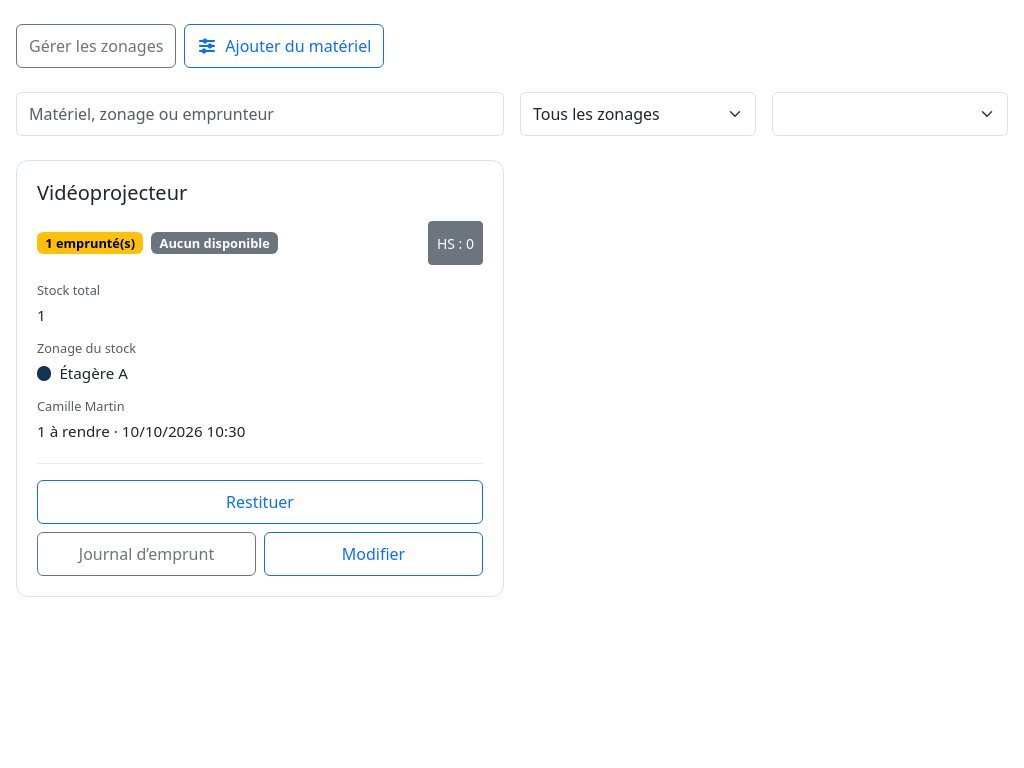
Test case: Matériel et emprunts › ouvre la saisie HS et affiche le problème sans perdre l’emprunt
The width and height of the screenshot is (1024, 768).
Click the button "HS : 0": [455, 243] box x1=428 y1=221 x2=483 y2=265
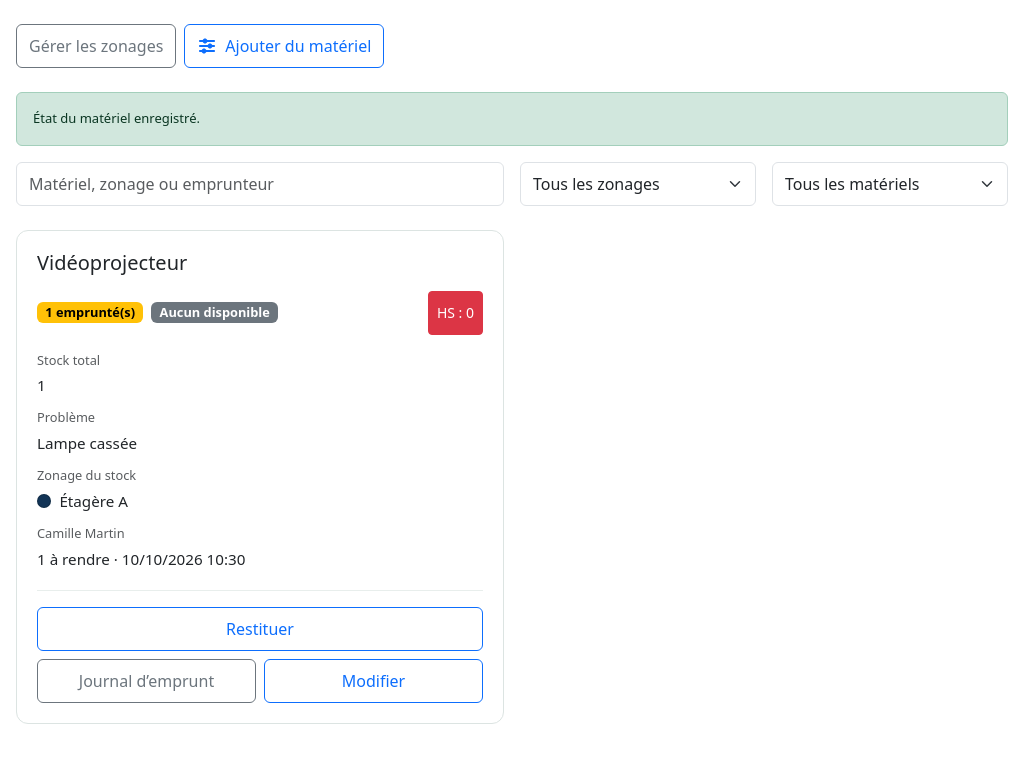
Expected: the text "Camille Martin" is shown, x1=37 y1=524 x2=125 y2=542
Expected: the text "Lampe cassée" is shown, x1=37 y1=433 x2=137 y2=453
